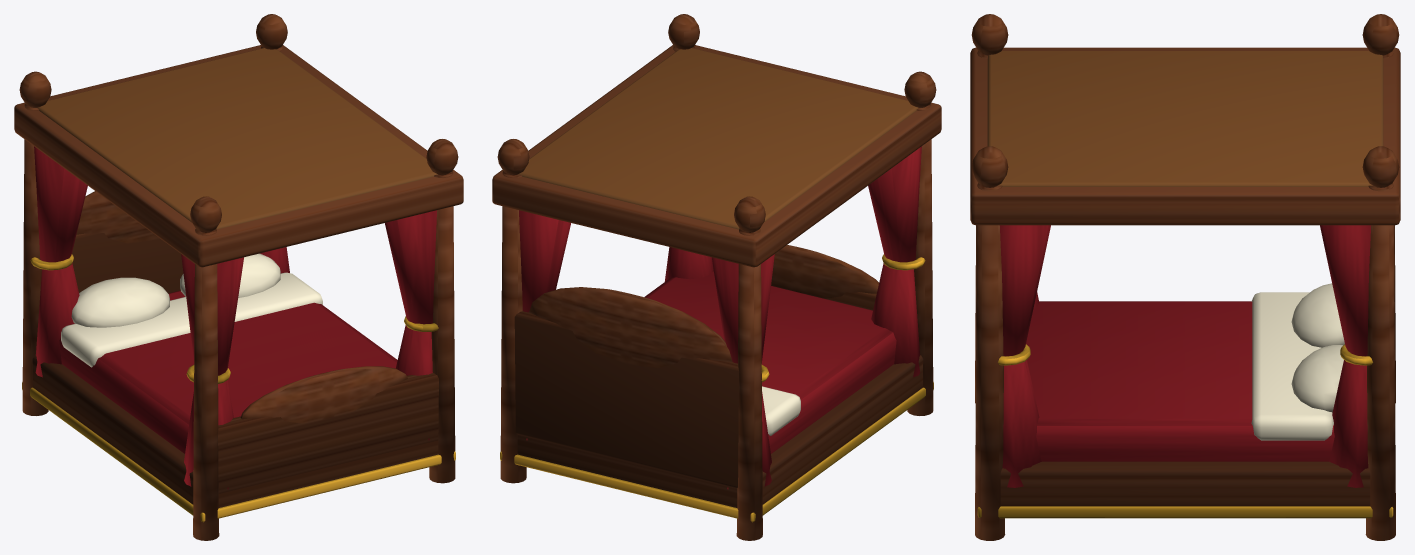
File: h_prop_bed.glb
3 renders of one model, left to right at view 1: azimuth 30°, elevation 25°; view 2: azimuth 150°, elevation 25°; view 3: azimuth 270°, elevation 25°, orthographic. The views are drawn at different scales.
Parts seen in each view (by area): view 1: BedCanopyRoof, BedCanopyFrame, BedMattress, BedFootboard, BedFrame, BedPost_-0.6_-0.8, BedSheetCuff, BedFootArch, BedPost_0.6_-0.8, BedHeadboard, BedGoldSkirt, BedDrapeUp_0.6_-0.8 (+13 smaller); view 2: BedCanopyRoof, BedHeadboard, BedCanopyFrame, BedMattress, BedFrame, BedHeadArch, BedPost_-0.6_0.8, BedPost_0.6_0.8, BedGoldSkirt, BedDrapeUp_-0.6_-0.8, BedPost_-0.6_-0.8, BedFootArch (+11 smaller); view 3: BedCanopyRoof, BedMattress, BedCanopyFrame, BedFrame, BedPost_0.6_0.8, BedPost_0.6_-0.8, BedSheetCuff, BedGoldSkirt, BedDrapeUp_0.6_0.8, BedDrapeUp_0.6_-0.8, BedDrapeLow_0.6_-0.8, BedDrapeLow_0.6_0.8 (+6 smaller).
Part boxes in pixels (x1,y1,x2,y2): BedCanopyRoof: (37,48,437,229); BedCanopyFrame: (14,45,463,267); BedMattress: (59,290,397,453); BedFootboard: (218,373,438,493); BedFrame: (32,355,438,507); BedPost_-0.6_-0.8: (193,228,219,540); BedSheetCuff: (61,272,322,367); BedFootArch: (240,366,407,423); BedPost_0.6_-0.8: (429,171,455,483); BedHeadboard: (72,233,183,293); BedGoldSkirt: (22,382,455,522); BedDrapeUp_0.6_-0.8: (385,210,436,324); BedCanopyRoof: (518,48,918,229); BedHeadboard: (514,311,738,487); BedCanopyFrame: (492,45,941,267); BedMattress: (644,271,896,453); BedFrame: (517,355,923,507); BedHeadArch: (529,287,732,368); BedPost_-0.6_0.8: (736,228,762,540); BedPost_0.6_0.8: (500,171,526,483); BedGoldSkirt: (500,382,933,522); BedDrapeUp_-0.6_-0.8: (868,146,921,262); BedPost_-0.6_-0.8: (907,104,933,415); BedFootArch: (771,245,878,298); BedCanopyRoof: (987,51,1383,186); BedMattress: (1026,301,1334,461); BedCanopyFrame: (970,47,1400,225); BedFrame: (1000,461,1370,506); BedPost_0.6_0.8: (1365,183,1395,540); BedPost_0.6_-0.8: (975,183,1005,540); BedSheetCuff: (1251,292,1333,440); BedGoldSkirt: (977,506,1393,518); BedDrapeUp_0.6_0.8: (1320,225,1370,356); BedDrapeUp_0.6_-0.8: (1000,225,1050,356); BedDrapeLow_0.6_-0.8: (1002,360,1041,487); BedDrapeLow_0.6_0.8: (1329,360,1368,487).
Bounding box in the file's own units: 1.44 × 1.75 × 1.76.
5 materials, 4 textured.
